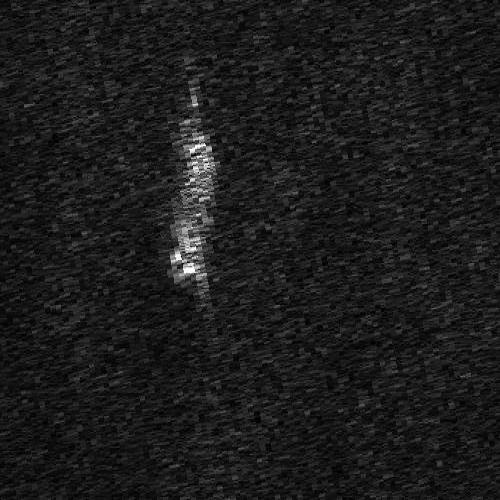ship: (170, 119, 217, 284)
